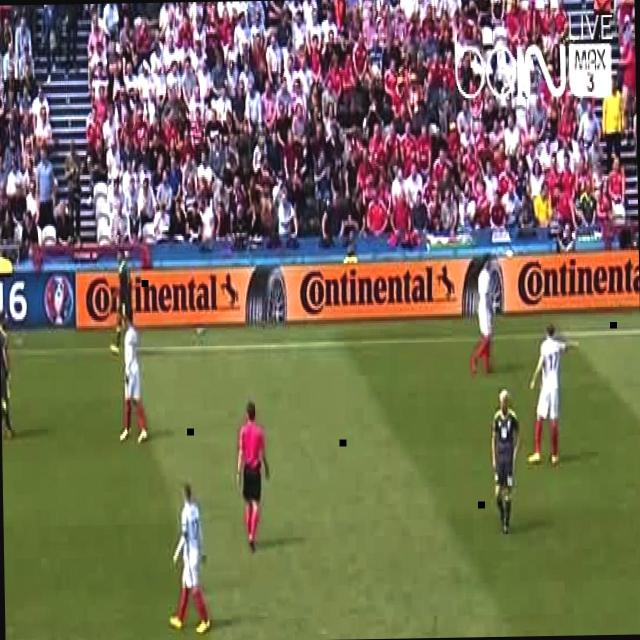player-white: (525, 323, 581, 462), (167, 486, 211, 636), (235, 401, 271, 552), (488, 386, 522, 536), (118, 313, 148, 444), (470, 256, 496, 374), (110, 249, 134, 355), (0, 305, 14, 436)
